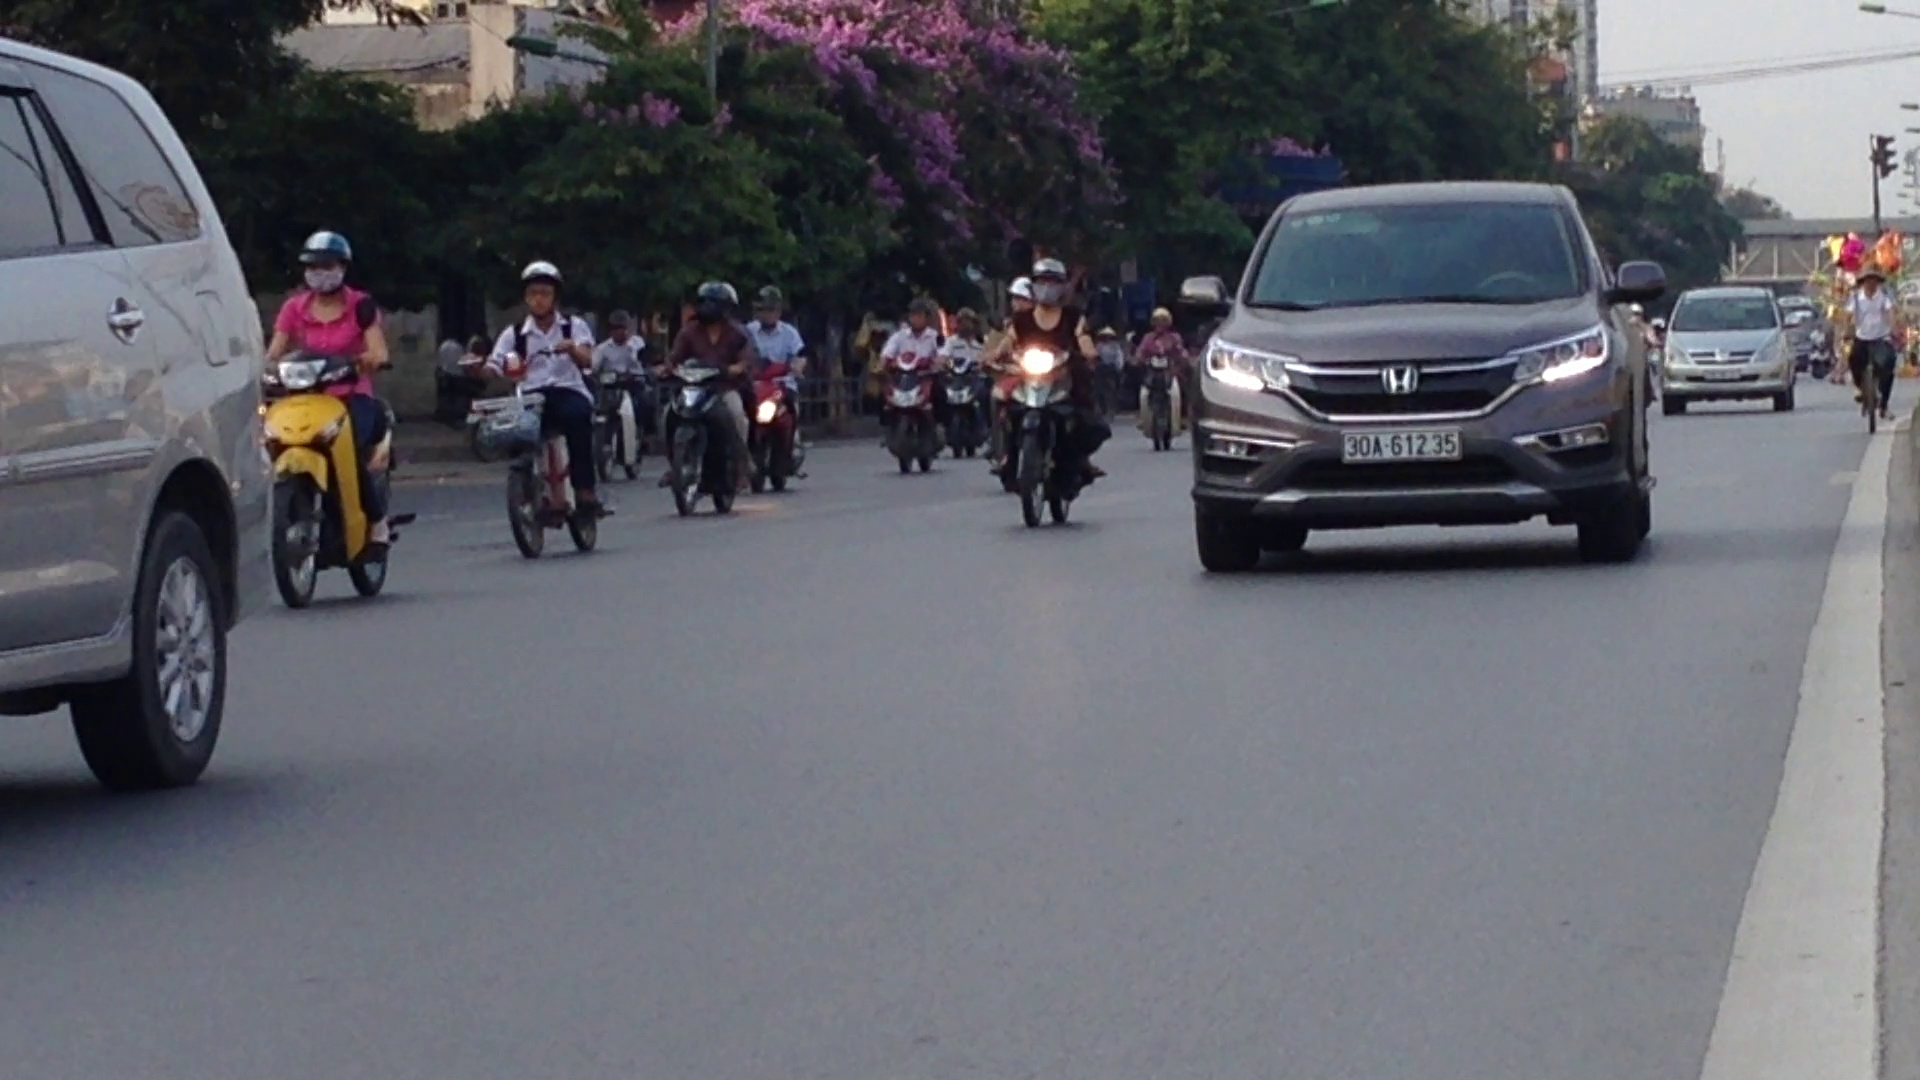person: (1336, 424, 1464, 464)
